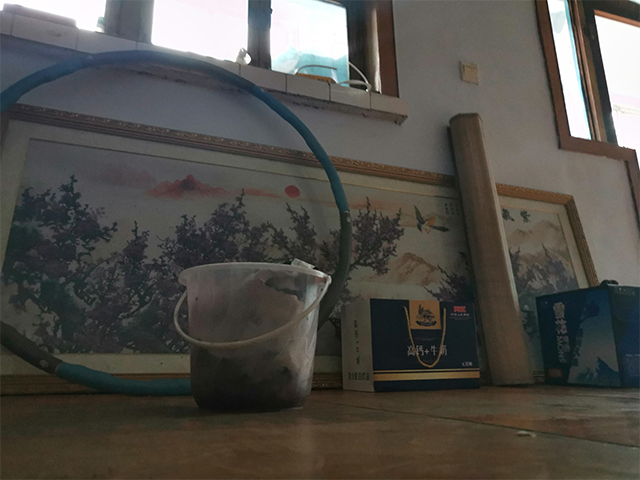trashcan: (169, 258, 335, 414)
